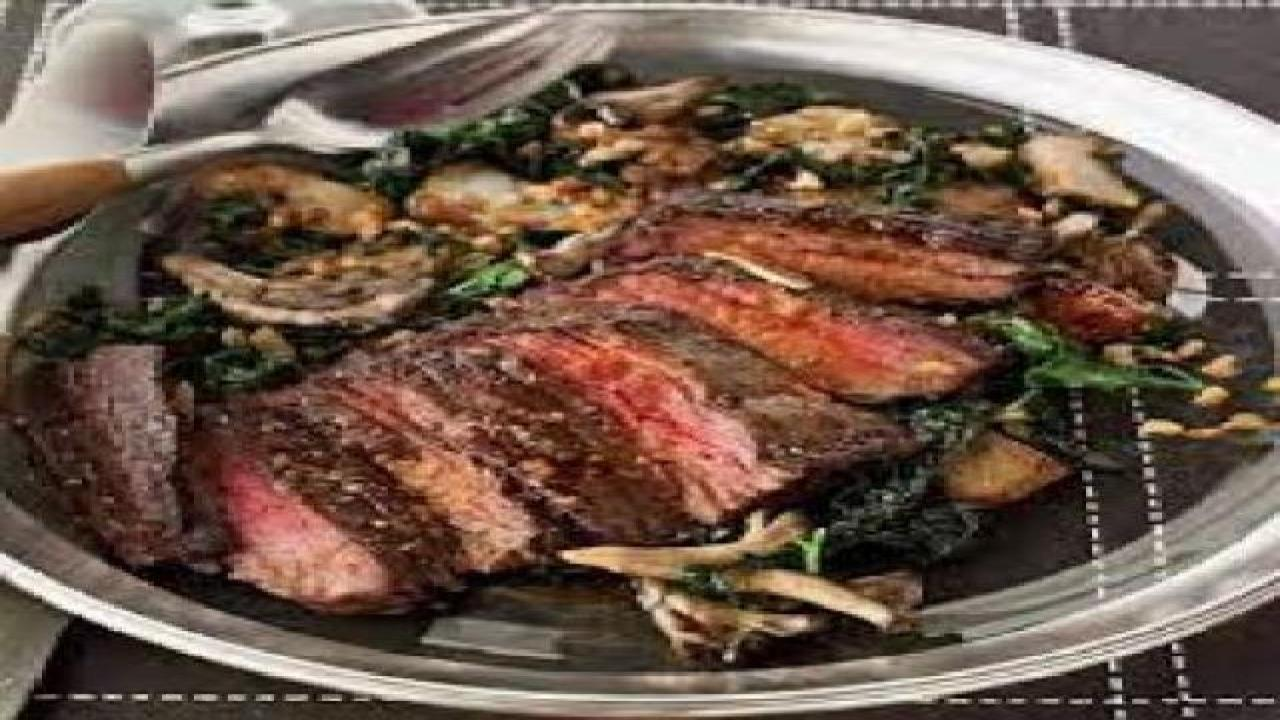Carne: (36, 216, 1077, 609)
